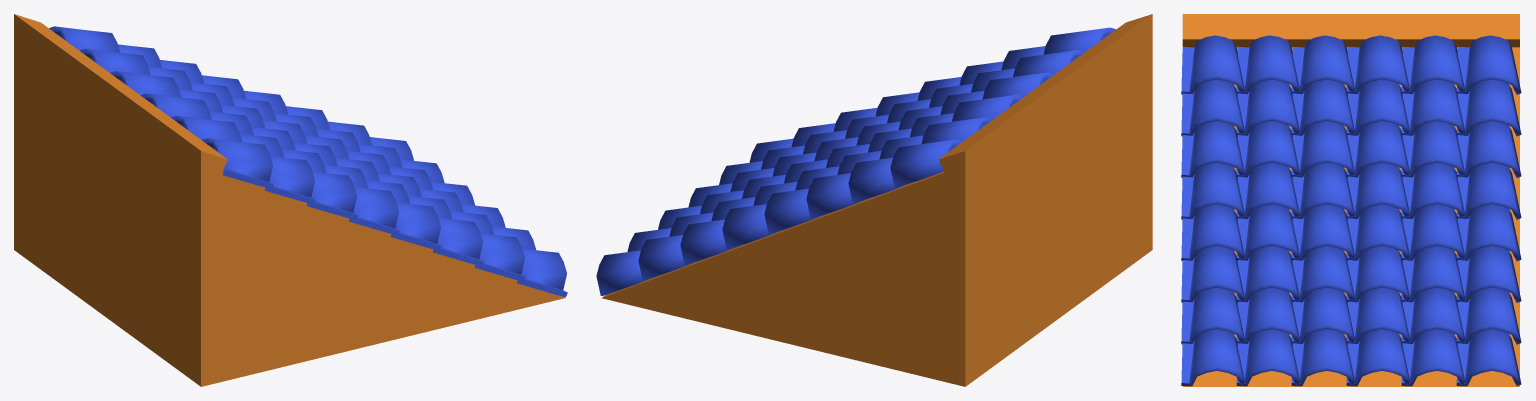
File: TejadoDe2.fbx
3 views of the same model, side by side, from view 1: azimuth 30°, elevation 25°; view 2: azimuth 150°, elevation 25°; view 3: azimuth 270°, elevation 25° (orthographic). The views are drawn at different scales.
Visible parts, largest first — view 1: Cube.001, Tejado.002; view 2: Cube.001, Tejado.002; view 3: Tejado.002, Cube.001.
Boxes of the visible parts, box(x1,y1,x2,y2) form: Cube.001: box(14, 14, 564, 386); Tejado.002: box(49, 26, 567, 297); Cube.001: box(601, 14, 1152, 386); Tejado.002: box(596, 27, 1115, 295); Tejado.002: box(1181, 35, 1521, 386); Cube.001: box(1182, 14, 1519, 386).
Bounding box in the file's own units: 446 × 267 × 386.
